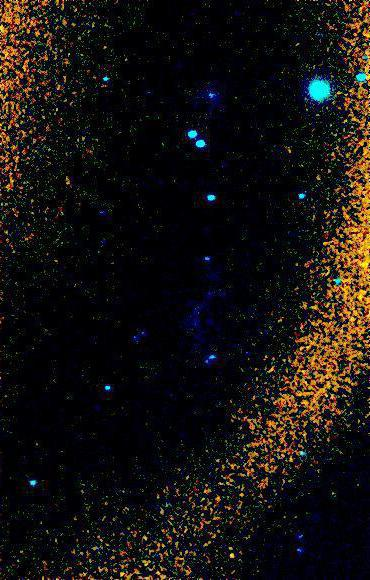star: (216, 541, 246, 571)
